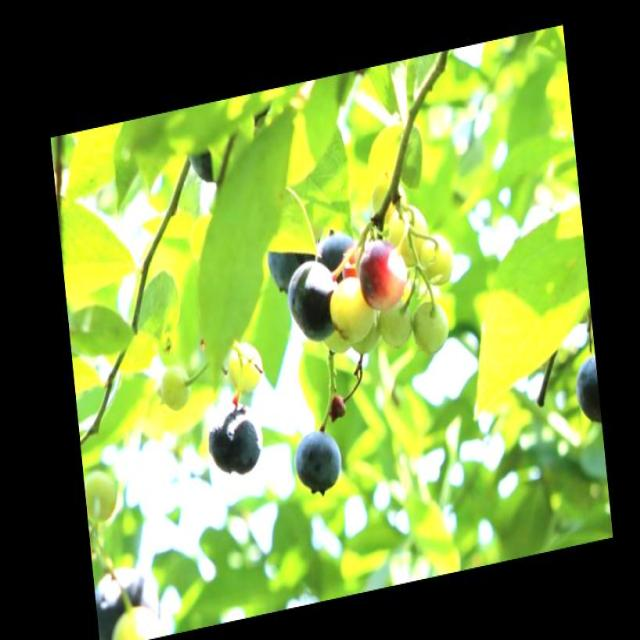blueberry: (91, 548, 161, 639), (281, 254, 340, 345), (203, 394, 263, 482), (289, 424, 344, 497), (260, 232, 318, 294), (567, 354, 600, 428), (314, 228, 354, 279)
blueberry-halfripe: (353, 230, 407, 311)
blueberry-unripe: (326, 270, 373, 343), (385, 200, 430, 262), (410, 292, 454, 353), (414, 226, 458, 286), (81, 459, 119, 525), (225, 337, 265, 398), (155, 360, 195, 417), (376, 298, 414, 349)
